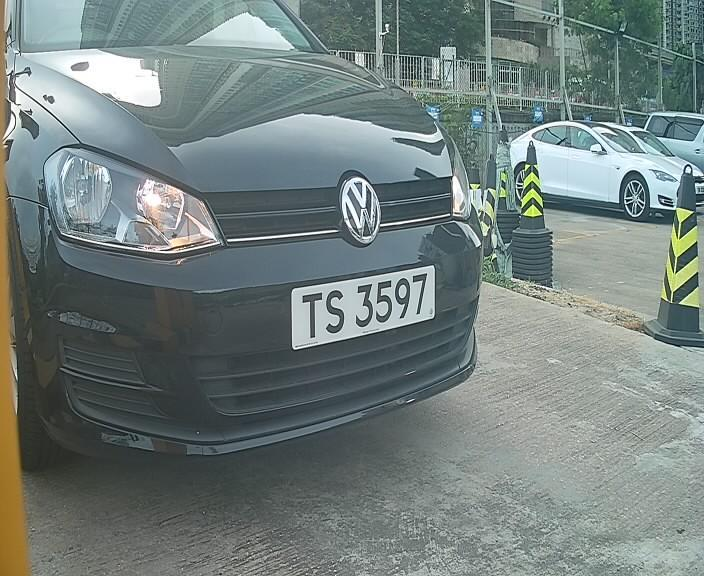privatecar: (10, 13, 516, 451)
